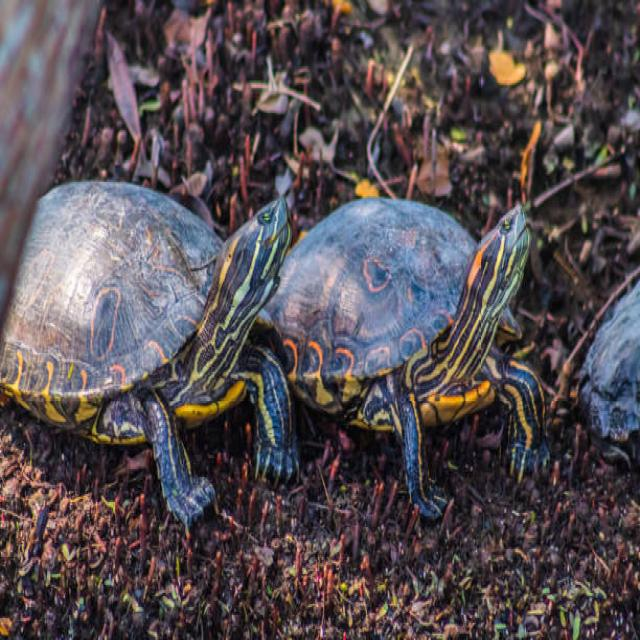terrapin: (12, 166, 209, 335), (310, 171, 476, 337), (188, 182, 296, 342), (131, 391, 229, 543), (380, 370, 455, 548), (468, 178, 544, 318), (241, 336, 305, 502), (497, 346, 559, 510)
